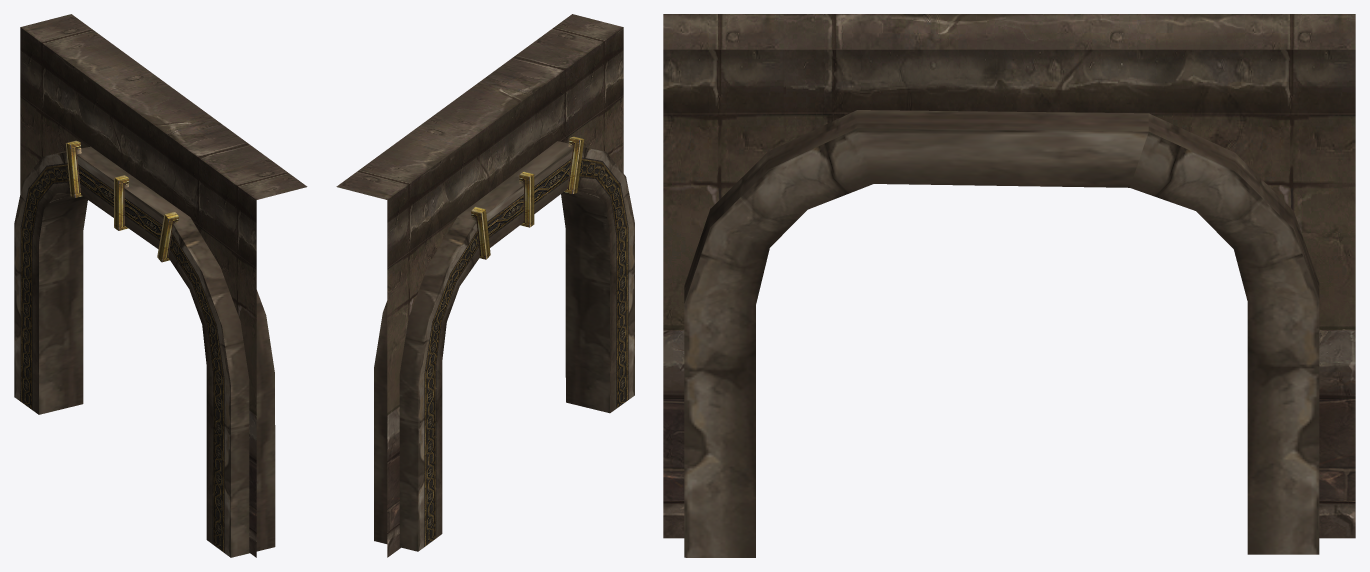
Rendered from arch_wall_gate_b.FBX.
3 renders of one model, left to right at view 1: azimuth 30°, elevation 25°; view 2: azimuth 150°, elevation 25°; view 3: azimuth 270°, elevation 25°, orthographic. The views are drawn at different scales.
Visible parts, largest first — view 1: arch_wall_gate_b; view 2: arch_wall_gate_b; view 3: arch_wall_gate_b.
Part boxes in pixels (bbox=[...]): arch_wall_gate_b: bbox=[14, 14, 307, 557]; arch_wall_gate_b: bbox=[336, 14, 634, 557]; arch_wall_gate_b: bbox=[663, 14, 1355, 557].
Bounding box in the file's own units: 1.05 × 4.79 × 5.7.
